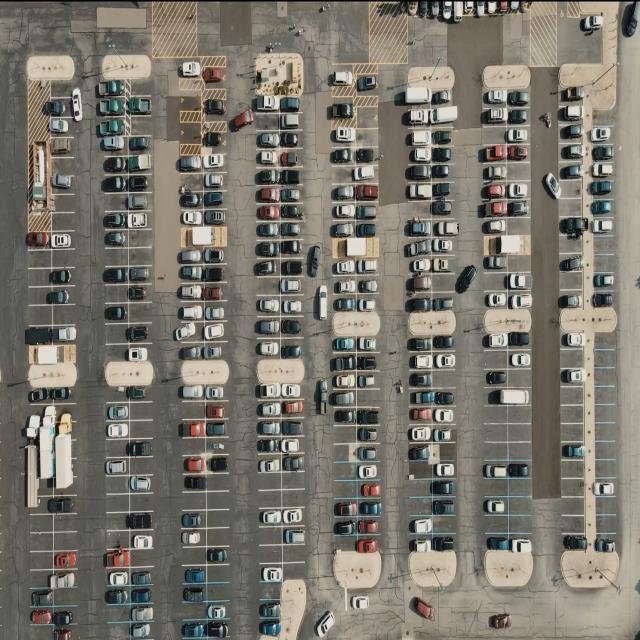space-empty: (486, 406, 532, 426), (487, 424, 531, 442), (494, 368, 532, 386), (127, 114, 153, 136), (105, 322, 130, 344), (484, 350, 511, 370), (53, 305, 78, 326), (409, 460, 435, 480), (28, 286, 54, 306), (355, 106, 378, 128), (559, 178, 583, 199), (104, 283, 129, 303), (28, 306, 53, 326), (558, 198, 583, 218), (481, 127, 507, 146), (104, 493, 130, 512), (254, 277, 280, 296), (179, 400, 205, 419), (406, 200, 432, 219), (128, 247, 154, 266), (560, 496, 586, 515), (27, 325, 53, 344), (506, 424, 533, 442), (559, 348, 583, 368), (509, 478, 533, 498), (560, 478, 584, 498), (28, 248, 52, 268), (55, 530, 79, 550), (334, 424, 358, 444), (332, 165, 356, 185), (593, 348, 617, 368), (559, 272, 583, 292), (206, 490, 230, 510), (333, 480, 357, 500), (594, 385, 618, 405), (207, 510, 231, 530), (433, 273, 457, 293), (130, 400, 154, 420), (509, 496, 533, 516), (483, 478, 508, 497), (103, 247, 128, 266), (591, 236, 616, 255), (129, 492, 154, 511), (483, 442, 508, 461), (129, 457, 154, 476), (128, 230, 154, 248), (180, 439, 206, 457), (103, 192, 129, 210), (255, 112, 281, 130), (127, 78, 153, 96), (508, 162, 531, 182), (128, 304, 151, 324), (560, 404, 583, 424), (179, 124, 202, 144), (355, 129, 378, 149), (594, 366, 617, 386), (594, 422, 617, 442), (561, 459, 585, 478), (508, 255, 532, 274), (29, 532, 53, 551), (559, 235, 583, 254), (509, 442, 533, 461), (260, 526, 284, 545), (52, 211, 76, 230), (54, 514, 78, 533), (483, 273, 507, 292), (508, 216, 532, 235), (130, 419, 154, 438), (30, 515, 54, 534), (281, 545, 305, 564), (560, 386, 584, 405), (182, 491, 206, 510), (560, 423, 584, 442), (355, 388, 379, 407), (30, 552, 54, 571), (334, 461, 358, 480), (280, 489, 304, 508), (207, 527, 231, 546), (281, 561, 305, 580), (53, 588, 78, 606), (182, 547, 207, 565), (408, 496, 433, 514), (433, 516, 458, 534), (181, 602, 206, 620), (485, 516, 510, 534), (485, 424, 510, 442), (592, 255, 615, 274), (260, 545, 283, 564), (207, 563, 230, 582), (104, 439, 127, 458), (179, 93, 202, 112), (31, 568, 54, 587), (260, 489, 283, 508), (435, 443, 458, 462), (28, 269, 52, 287), (178, 173, 202, 191), (106, 604, 130, 622), (408, 479, 432, 497), (104, 384, 128, 402), (106, 530, 130, 548), (130, 550, 154, 568), (593, 333, 617, 351), (509, 516, 533, 534), (207, 584, 231, 602), (50, 79, 74, 97), (590, 108, 614, 126), (561, 516, 585, 534), (595, 442, 616, 462), (595, 405, 617, 424), (333, 444, 355, 463), (52, 193, 75, 211), (105, 476, 128, 494), (53, 249, 76, 267), (280, 471, 303, 489), (259, 473, 282, 491), (206, 473, 229, 491), (106, 513, 129, 531), (434, 371, 457, 389), (262, 584, 284, 602), (335, 534, 358, 551), (596, 458, 616, 477), (596, 515, 616, 534), (53, 159, 75, 176), (105, 345, 128, 361), (108, 624, 131, 640), (594, 498, 616, 514), (30, 626, 54, 640)
space-occupied: (487, 384, 531, 406), (487, 333, 528, 351), (203, 91, 227, 117), (96, 98, 125, 119), (587, 178, 616, 198), (202, 64, 226, 88), (560, 214, 586, 236), (126, 96, 153, 117), (406, 181, 433, 202), (98, 116, 126, 136), (332, 65, 355, 89), (257, 294, 282, 316), (481, 105, 507, 126), (406, 105, 432, 126), (100, 136, 127, 156), (407, 274, 434, 294), (481, 180, 508, 200), (406, 238, 434, 257), (179, 58, 202, 81), (47, 117, 71, 139), (47, 96, 71, 118), (332, 99, 356, 121), (177, 319, 201, 341), (255, 316, 280, 337), (103, 304, 128, 325), (433, 105, 458, 126), (181, 619, 206, 640), (104, 266, 130, 286), (408, 442, 434, 462), (559, 142, 585, 162), (101, 156, 127, 176), (589, 216, 615, 236), (484, 496, 510, 516), (180, 527, 206, 547), (257, 398, 283, 418), (559, 103, 585, 123), (408, 256, 434, 276), (202, 130, 228, 150), (587, 126, 614, 145), (98, 78, 125, 97), (280, 296, 304, 317), (332, 126, 356, 147), (559, 288, 583, 309), (280, 507, 304, 528), (202, 320, 226, 341), (104, 230, 129, 250), (104, 419, 129, 439), (433, 217, 458, 237), (508, 272, 533, 292), (483, 458, 508, 478), (407, 216, 432, 236), (561, 442, 586, 462), (177, 154, 202, 174), (202, 153, 227, 173), (353, 164, 378, 184), (129, 439, 154, 459), (106, 566, 131, 586), (180, 511, 206, 530), (180, 418, 206, 437), (482, 163, 508, 182), (482, 144, 508, 163), (256, 437, 282, 456), (482, 217, 508, 236), (178, 383, 204, 402), (254, 259, 280, 278), (589, 199, 615, 218), (559, 125, 585, 144), (408, 293, 434, 312), (410, 387, 436, 406), (258, 418, 284, 437), (485, 369, 511, 388), (405, 89, 432, 107), (355, 72, 377, 94), (280, 317, 303, 338), (128, 210, 152, 230), (128, 155, 152, 175), (54, 568, 78, 588), (261, 562, 285, 582), (182, 564, 206, 584), (129, 266, 153, 286), (105, 402, 129, 422), (560, 368, 584, 388), (332, 148, 356, 168), (560, 254, 584, 274), (278, 148, 302, 168), (131, 530, 155, 550), (483, 288, 507, 308), (50, 137, 74, 157), (509, 289, 533, 309), (257, 338, 281, 358), (408, 423, 432, 443), (410, 350, 434, 370), (103, 210, 128, 229), (255, 220, 280, 239), (105, 550, 130, 569), (333, 497, 358, 516), (408, 516, 433, 535), (407, 164, 432, 183), (27, 231, 52, 250), (410, 370, 435, 389), (256, 454, 281, 473), (587, 160, 612, 179), (178, 303, 203, 322), (103, 174, 129, 192), (332, 388, 358, 406), (52, 606, 78, 624), (483, 333, 509, 351), (408, 407, 434, 425), (589, 143, 615, 161), (200, 342, 226, 360), (486, 533, 512, 551), (129, 322, 151, 343), (280, 338, 302, 359), (104, 456, 127, 476), (280, 276, 303, 296), (508, 178, 531, 198), (433, 350, 456, 370), (509, 349, 532, 369), (183, 474, 206, 494), (131, 566, 154, 586), (207, 620, 230, 640), (203, 264, 226, 284), (128, 136, 152, 155), (129, 475, 153, 494), (509, 459, 533, 478), (260, 509, 284, 528), (560, 332, 584, 351), (54, 551, 78, 570), (255, 148, 279, 167), (280, 453, 304, 472), (129, 174, 153, 193), (206, 454, 230, 473), (508, 106, 532, 125), (54, 324, 78, 343), (433, 424, 457, 443), (256, 240, 280, 259), (408, 145, 432, 164), (182, 584, 206, 603), (356, 481, 380, 500), (333, 407, 357, 426), (52, 285, 76, 304), (333, 276, 357, 295), (178, 282, 202, 301), (280, 398, 304, 417), (433, 406, 457, 425), (52, 495, 76, 514), (333, 352, 357, 371), (28, 383, 52, 402), (130, 512, 154, 531), (508, 332, 532, 351), (431, 256, 455, 275), (408, 128, 432, 147), (253, 94, 278, 112), (334, 336, 359, 354), (356, 498, 381, 516), (332, 203, 357, 221), (332, 372, 357, 390), (333, 294, 358, 312), (483, 200, 508, 218), (431, 534, 456, 552), (560, 87, 586, 104), (178, 247, 204, 264), (52, 231, 74, 251), (258, 130, 280, 150), (355, 202, 377, 222), (356, 275, 378, 295), (593, 271, 615, 291), (260, 620, 282, 640), (433, 292, 455, 312), (594, 532, 616, 552), (508, 143, 531, 162), (203, 171, 226, 190), (431, 181, 454, 200), (280, 220, 303, 239), (129, 192, 152, 211), (204, 282, 227, 301), (333, 183, 356, 202), (281, 240, 304, 259), (280, 259, 303, 278), (355, 443, 378, 462), (483, 254, 507, 272), (507, 126, 531, 144), (433, 460, 457, 478), (182, 456, 206, 474), (508, 200, 532, 218), (482, 90, 506, 108), (179, 266, 203, 284), (559, 162, 583, 180), (258, 204, 282, 222), (432, 236, 456, 254), (432, 480, 456, 498), (430, 200, 454, 218), (356, 518, 380, 536), (432, 496, 456, 514), (180, 209, 204, 227), (590, 290, 614, 308), (562, 533, 586, 551), (354, 535, 378, 553), (410, 534, 434, 552), (52, 174, 74, 193), (207, 600, 229, 619), (354, 183, 376, 202), (131, 586, 153, 605), (206, 402, 228, 421), (594, 479, 616, 498), (261, 600, 283, 619), (204, 303, 226, 322), (432, 164, 455, 182), (180, 190, 203, 208), (207, 547, 230, 565), (354, 146, 377, 164), (31, 609, 54, 627), (281, 526, 304, 544), (432, 128, 455, 146), (355, 408, 378, 426), (202, 190, 225, 208), (281, 436, 304, 454), (332, 219, 355, 237), (508, 91, 531, 109), (129, 344, 152, 362), (203, 246, 226, 264), (258, 383, 282, 400), (408, 336, 432, 353), (106, 588, 130, 605), (256, 169, 280, 186), (334, 517, 358, 534), (435, 388, 456, 407), (54, 384, 75, 403), (30, 589, 52, 607), (356, 372, 378, 390), (53, 268, 75, 286), (206, 419, 228, 437), (128, 283, 150, 301), (130, 622, 152, 640), (205, 384, 227, 402), (432, 145, 454, 163), (280, 203, 302, 221), (356, 425, 378, 443), (204, 209, 226, 227), (355, 296, 377, 314), (282, 419, 304, 437), (132, 605, 154, 623), (431, 336, 454, 353), (353, 221, 376, 238), (356, 462, 379, 479), (256, 185, 279, 202), (178, 343, 201, 360), (204, 119, 228, 135), (280, 96, 301, 114), (279, 131, 300, 149), (356, 353, 377, 371), (355, 256, 376, 274), (334, 260, 356, 277), (130, 385, 152, 402), (280, 185, 302, 202), (280, 383, 303, 399), (430, 91, 453, 107), (278, 170, 301, 186), (357, 337, 378, 354), (279, 113, 300, 130), (53, 626, 73, 640)
